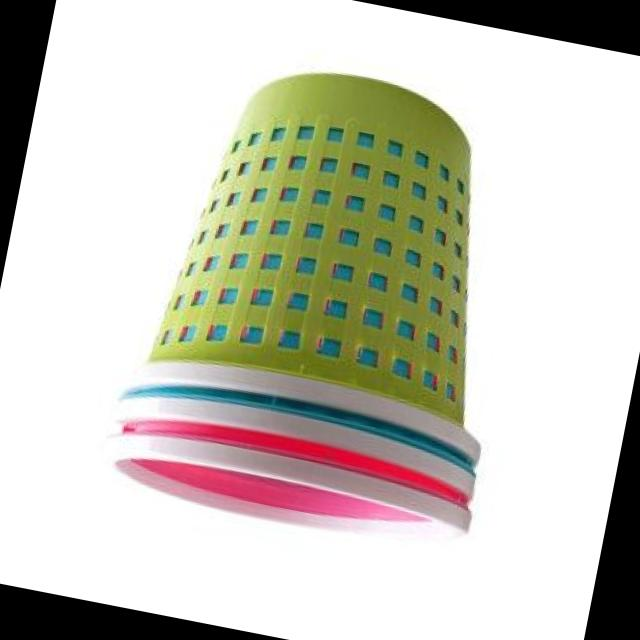dustbin: (88, 28, 555, 570)
